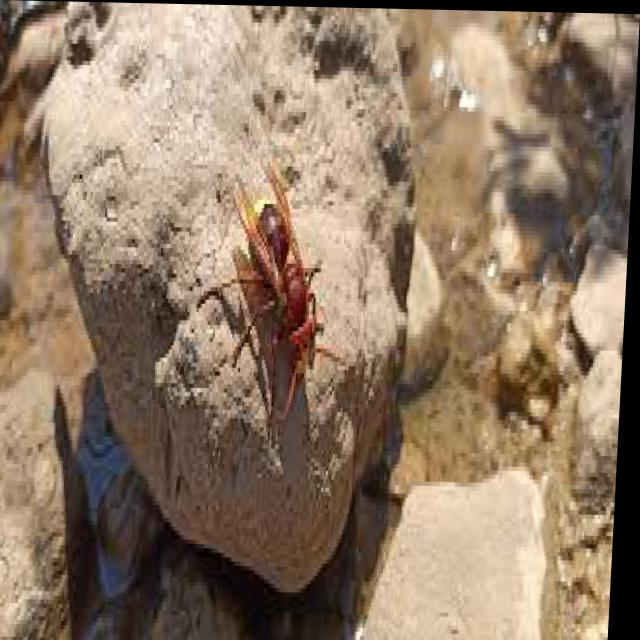Vespa Orientalis: (182, 150, 366, 469)
